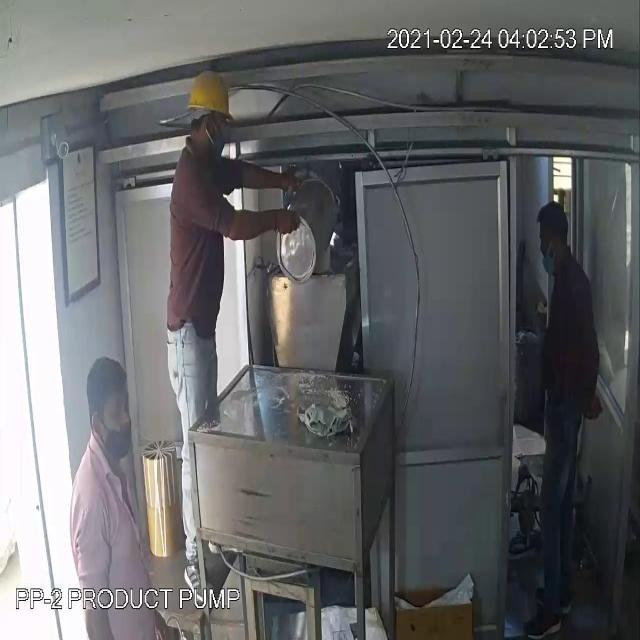helmet: (186, 65, 231, 123)
no-helmet: (81, 353, 142, 437)
